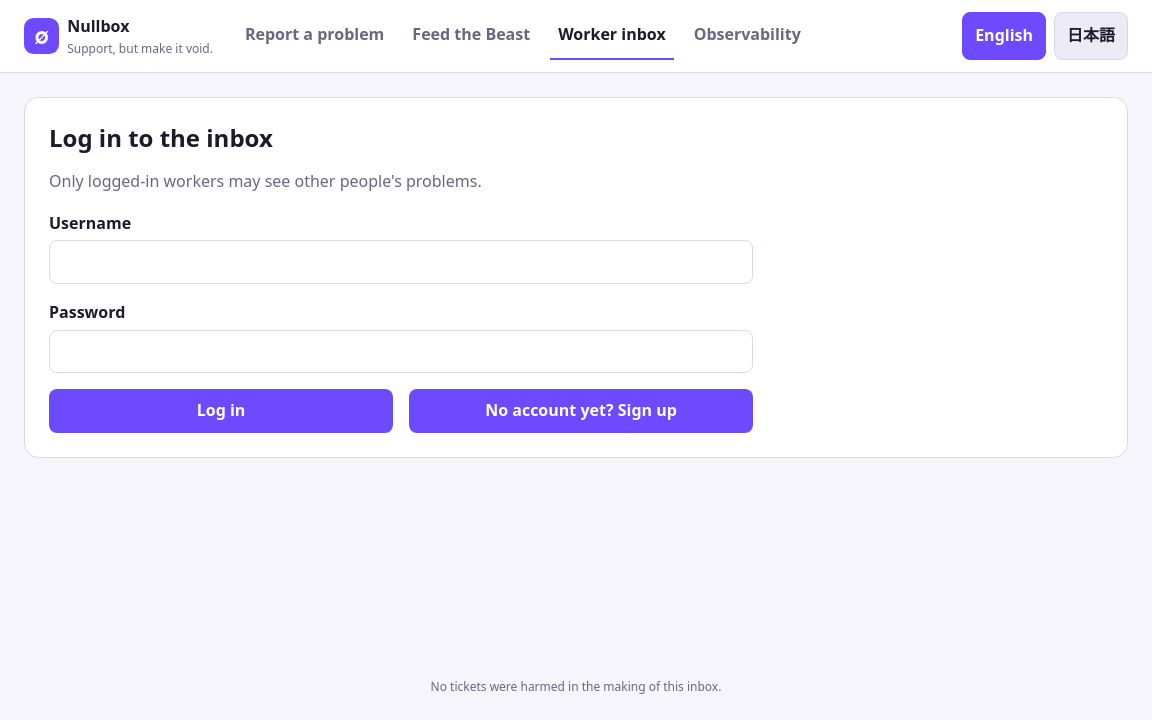
Test: RequireWorker › sign up shows the password_too_short message
Click the button "No account yet? Sign up" at coordinates (581, 411), box [409, 389, 753, 433]
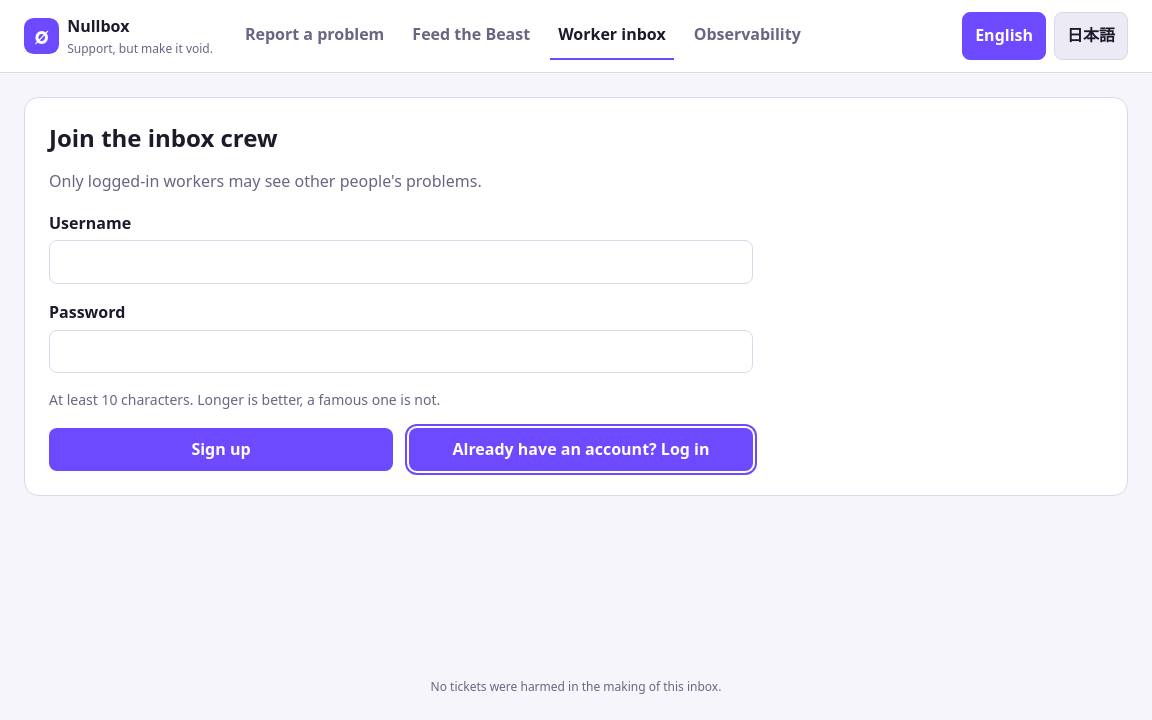
Type "alice" into the field labelled "Username" at coordinates (401, 262), box [49, 240, 753, 284]
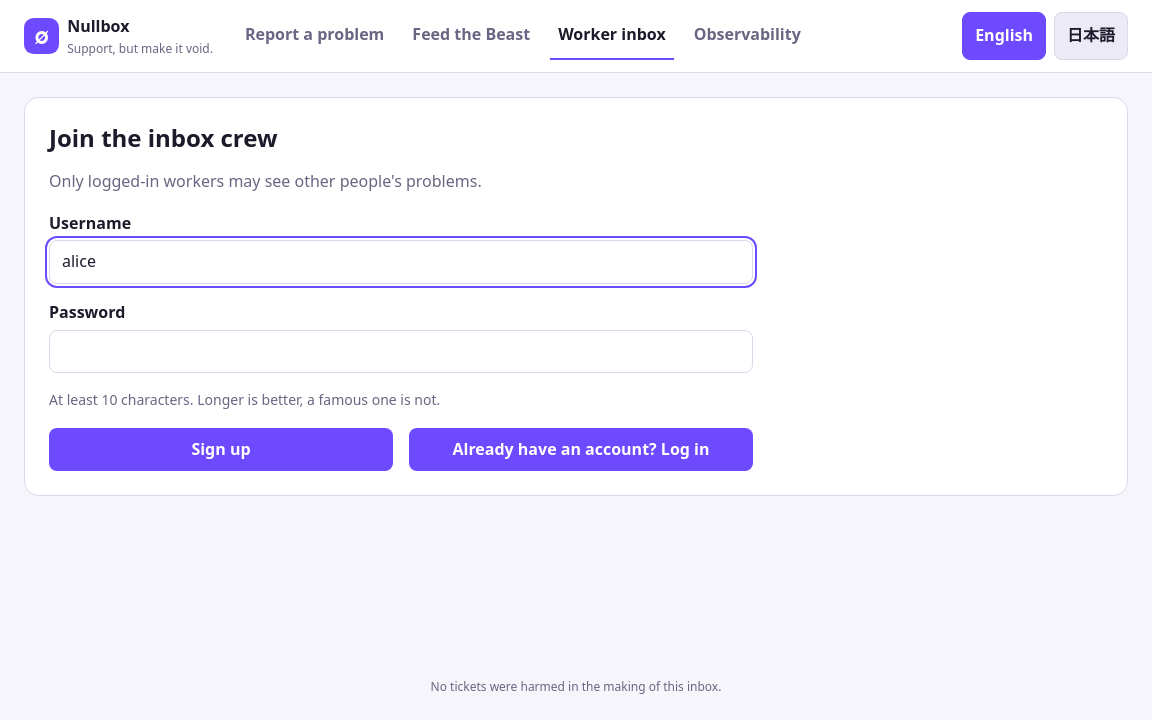
Type "correct horse battery" into the password field labelled "Password" at coordinates (401, 351), box [49, 330, 753, 373]
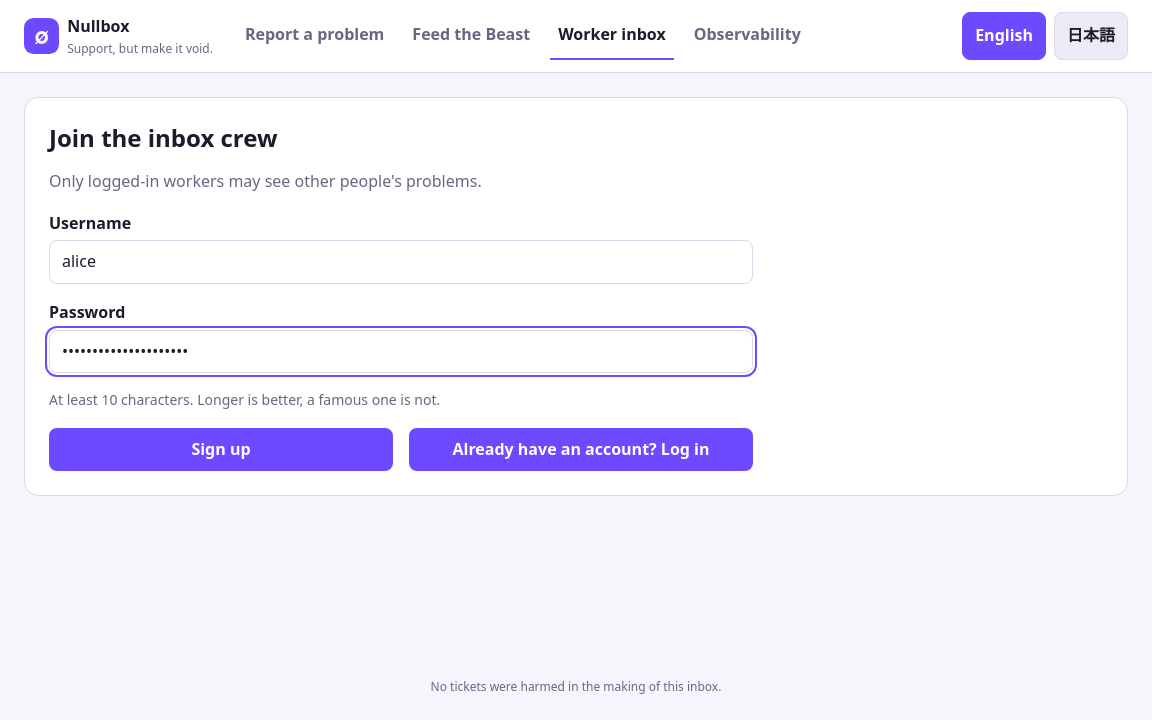
Click the button "Sign up" at coordinates (221, 449), box [49, 428, 393, 471]
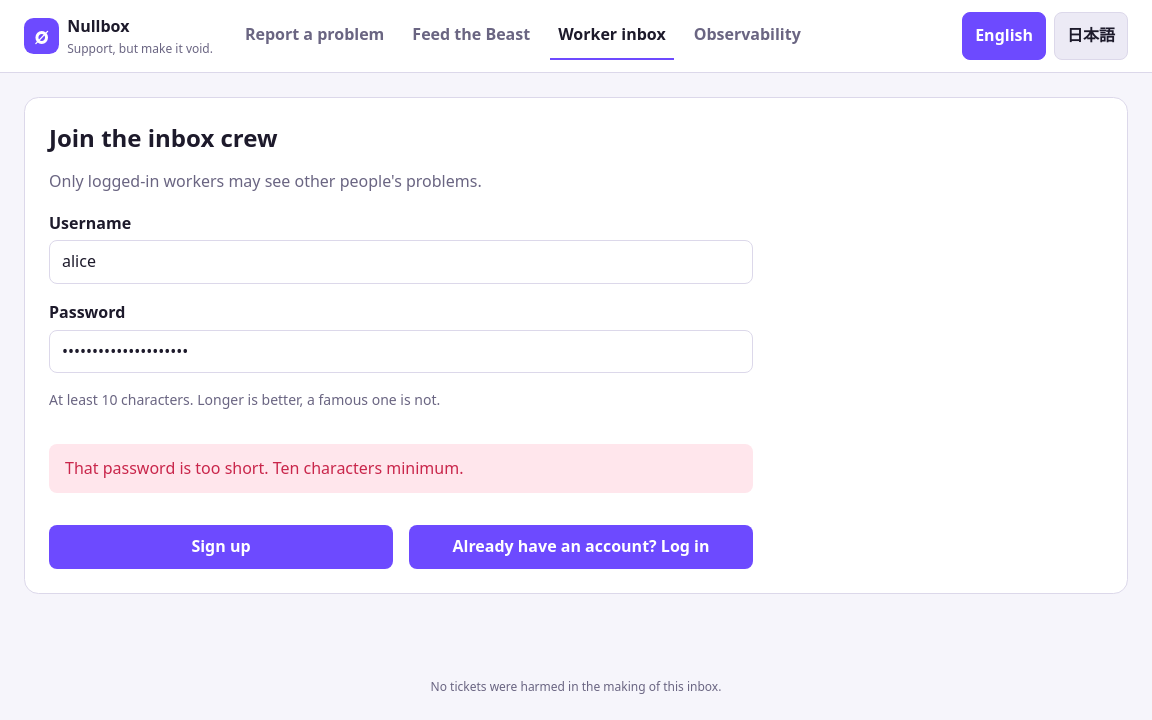
Check: the message reads "That password is too short. Ten characters minimum.", box [65, 456, 464, 478]
